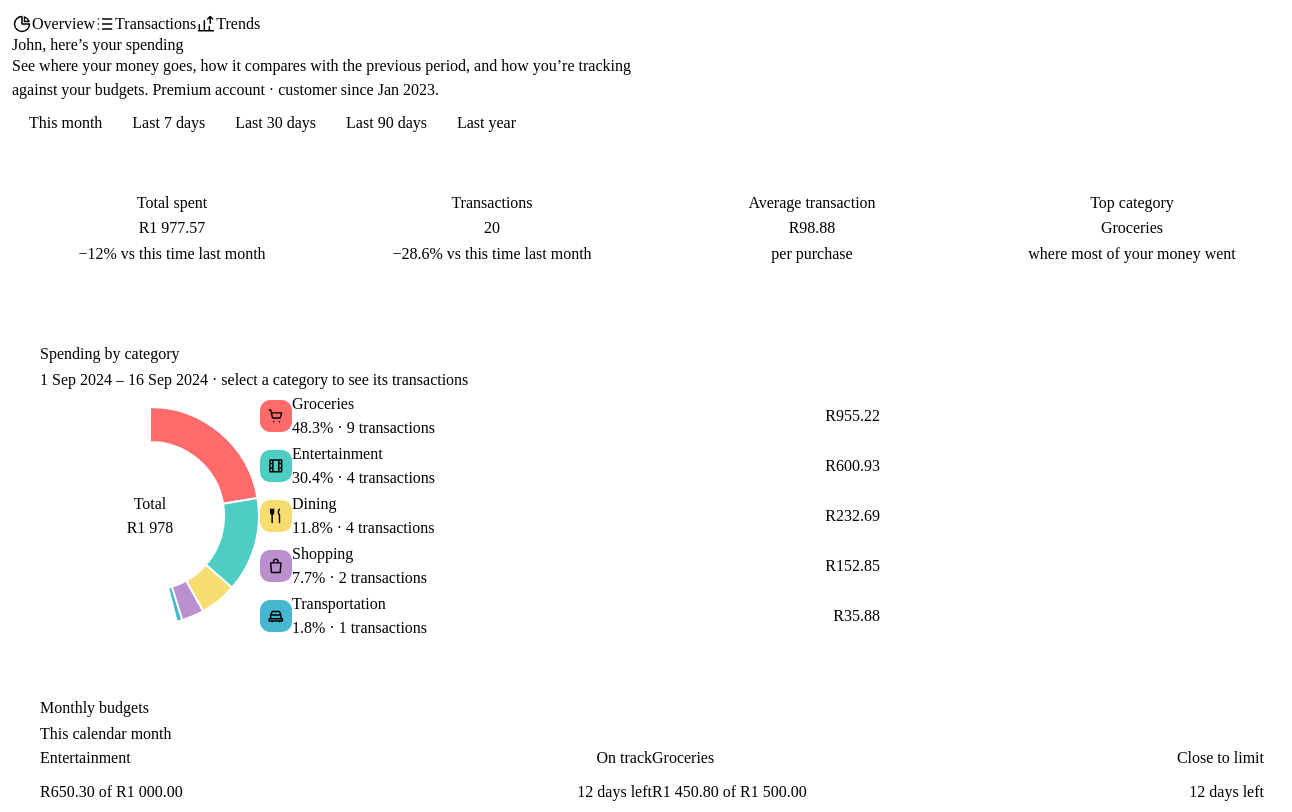
Test: SpendingInsightsPage › only shows the period filter on tabs that use it
The image size is (1292, 812).
Expected: the heading "John, here’s your spending" is shown, [12,36,184,53]
Expected: the element named "Time period" is shown, [12,102,533,144]
What coordinates should you click on to do the following:
click the tab "Trends"
I would click on:
 (228, 24)
Its box is [196,12,260,36].
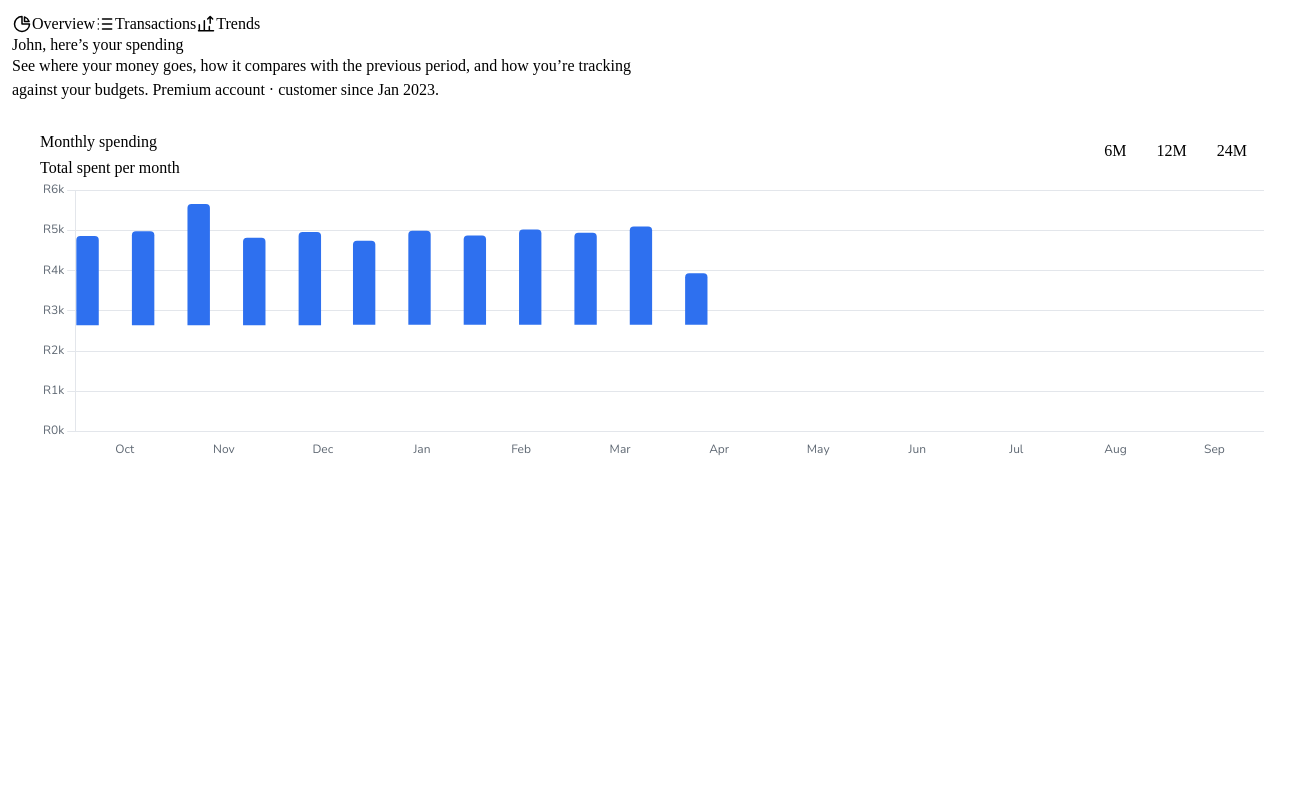
Expected: the element named "Months to show" is shown, [1087,130,1264,172]
